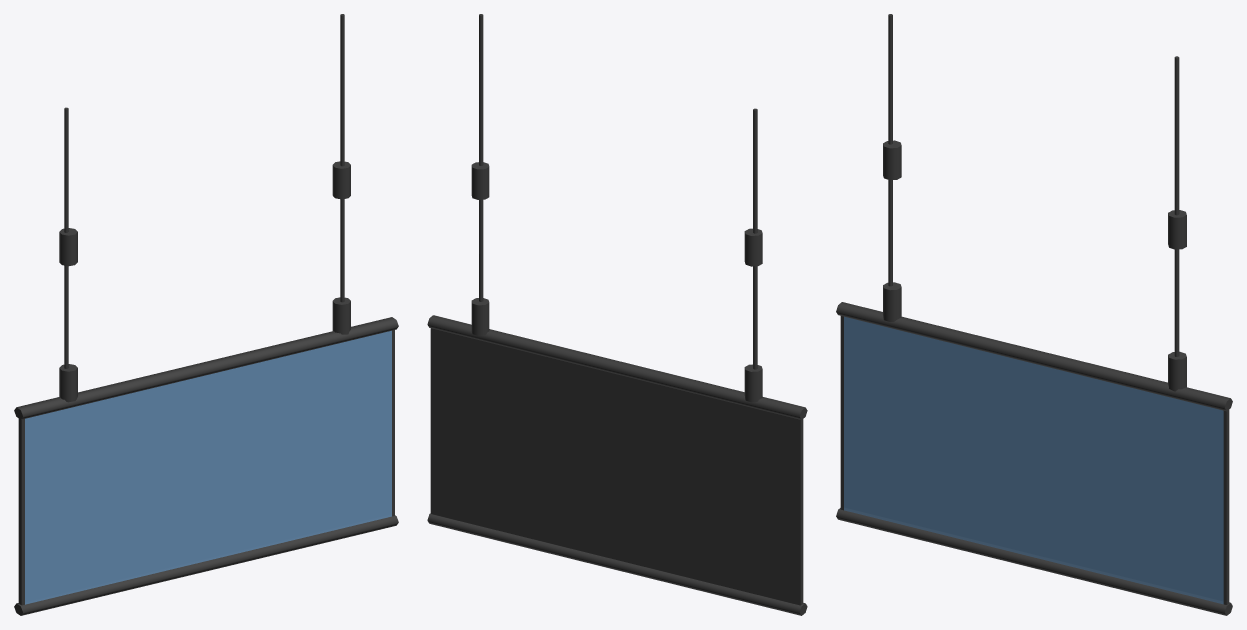
The model's file is Prop_TV_Hang_01.FBX.
The picture shows the model from 3 angles, left to right: view 1: azimuth 30°, elevation 25°; view 2: azimuth 150°, elevation 25°; view 3: azimuth 330°, elevation 25°; orthographic projection. The views are drawn at different scales.
Visible parts, largest first — view 1: Prop_TV_Hang_01; view 2: Prop_TV_Hang_01; view 3: Prop_TV_Hang_01.
Boxes of the visible parts, bbox=[...] form: Prop_TV_Hang_01: bbox=[14, 14, 398, 615]; Prop_TV_Hang_01: bbox=[427, 14, 807, 615]; Prop_TV_Hang_01: bbox=[836, 14, 1232, 615].
Bounding box in the file's own units: 4.58 × 6.08 × 0.2184.
